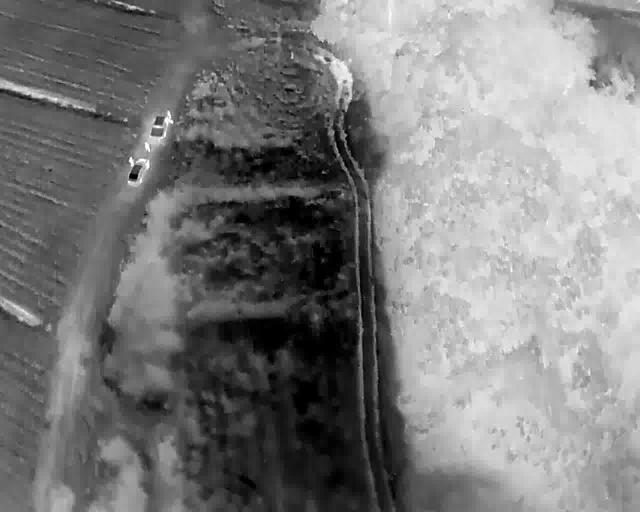car: (127, 158, 150, 185), (148, 116, 174, 139)
person: (128, 156, 133, 167), (144, 141, 149, 151), (166, 110, 171, 119)
